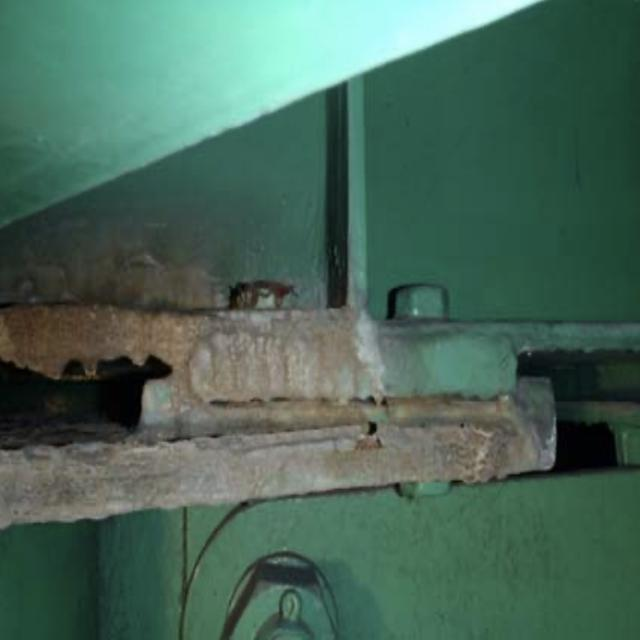corrosion: (6, 269, 511, 497)
